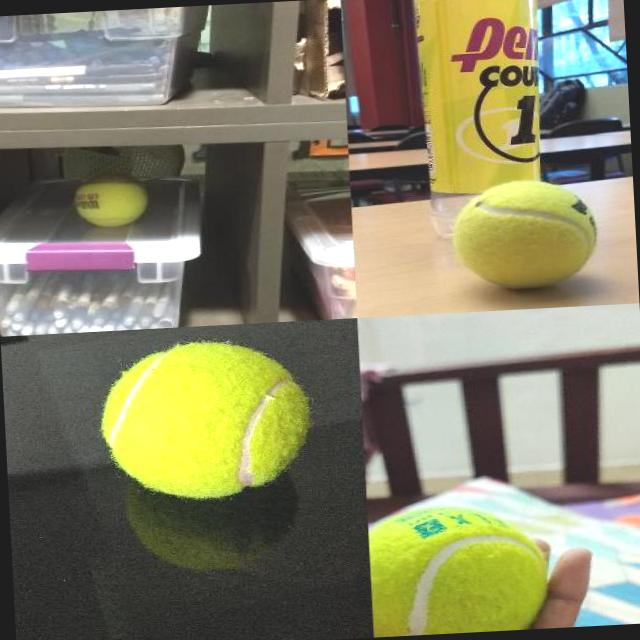Tennis Ball: (94, 333, 316, 504), (368, 501, 550, 636), (448, 175, 600, 294), (72, 171, 149, 229)
